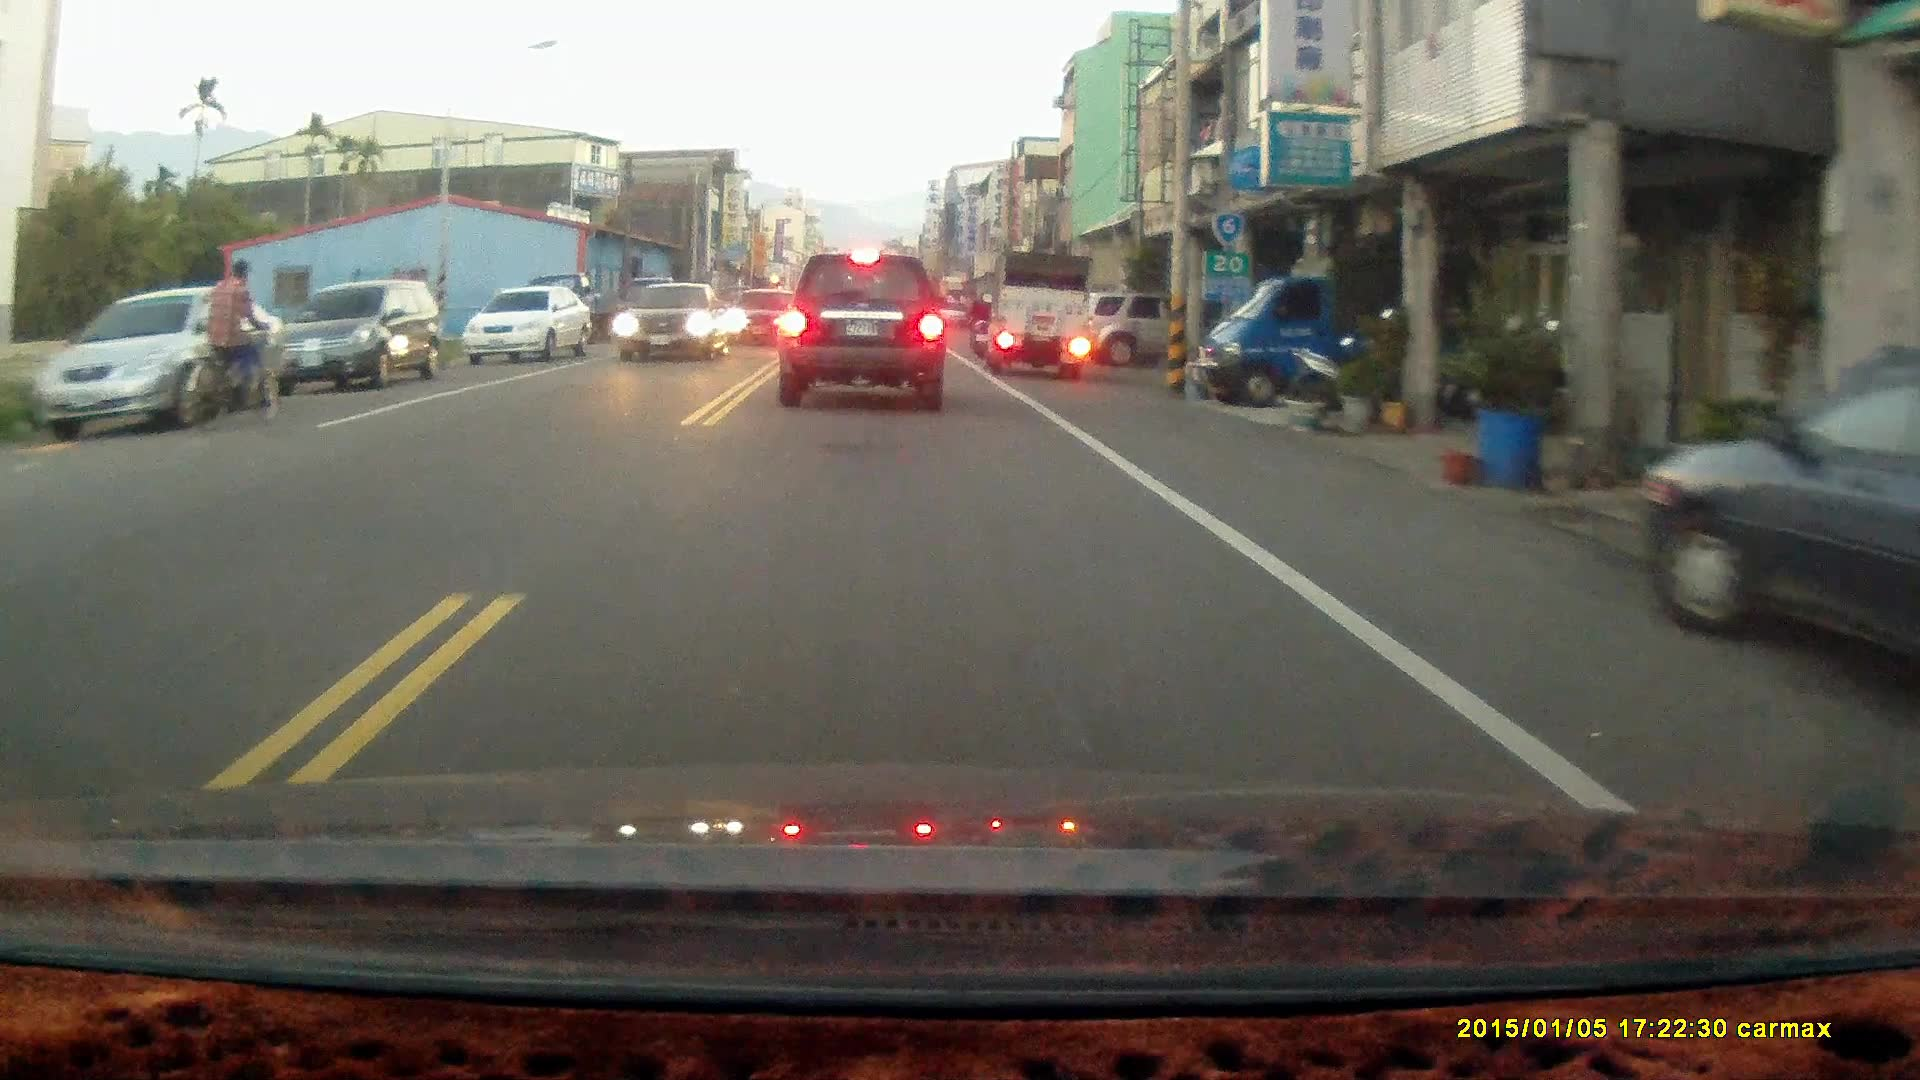rider: (182, 255, 281, 431), (963, 284, 998, 363)
vehicle: (1635, 348, 1920, 706), (36, 291, 276, 443), (1204, 234, 1409, 412), (778, 251, 948, 412), (269, 279, 450, 397), (989, 252, 1093, 380), (467, 287, 600, 368), (621, 282, 728, 364), (1087, 288, 1172, 370), (727, 286, 796, 352)
